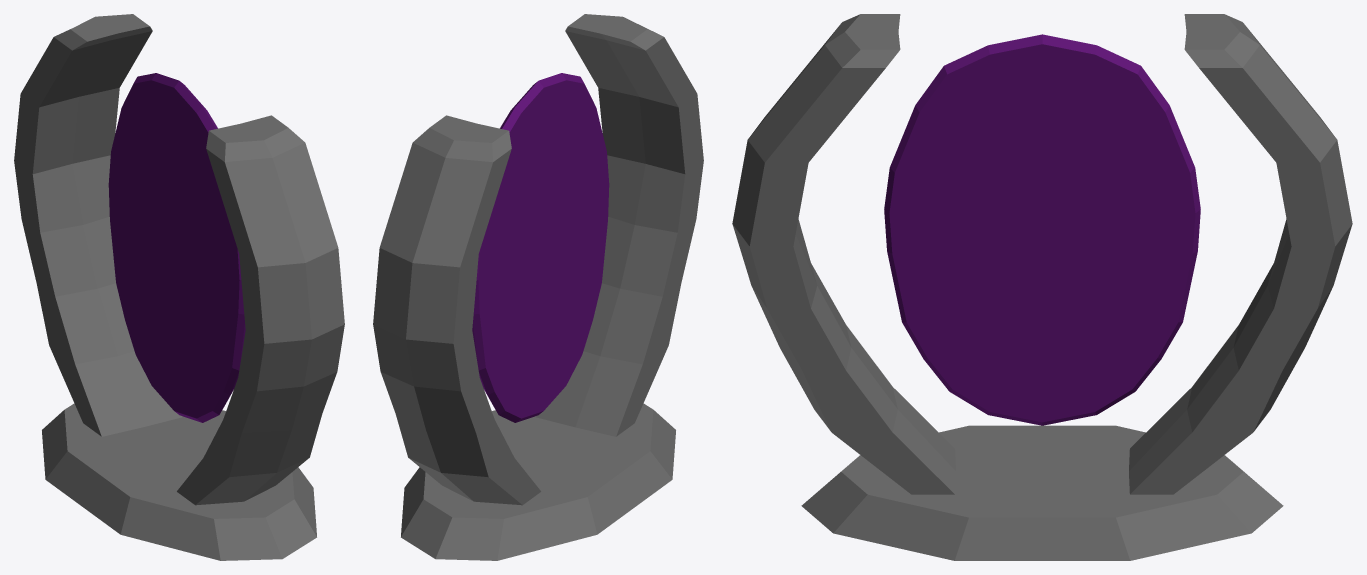
File: MazePortal.fbx
3 views of the same model, side by side, from view 1: azimuth 30°, elevation 25°; view 2: azimuth 150°, elevation 25°; view 3: azimuth 270°, elevation 25° (orthographic). The views are drawn at different scales.
Parts seen in each view (by area): view 1: Plane, Plane.001; view 2: Plane, Plane.001; view 3: Plane, Plane.001.
Part boxes in pixels (<box>): Plane: <box>14,14,344,560</box>; Plane.001: <box>108,73,245,422</box>; Plane: <box>373,14,703,560</box>; Plane.001: <box>472,73,609,422</box>; Plane: <box>732,14,1352,560</box>; Plane.001: <box>884,34,1200,425</box>.
Size of the model in its own units: 48.24 by 96.81 by 115.
